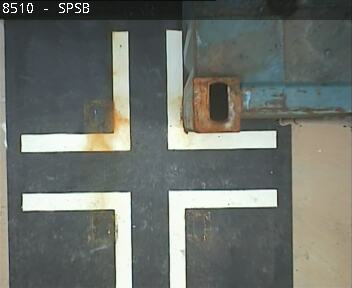groundmarker_1: (20, 31, 276, 153), (23, 189, 276, 288)
